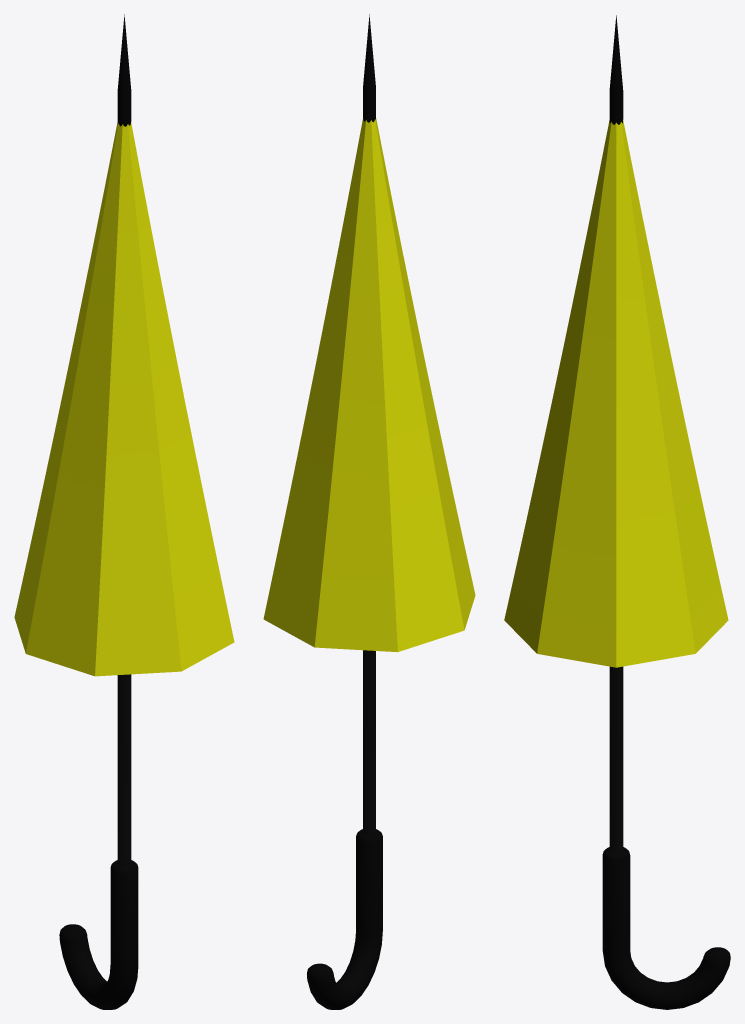
The model's file is parapluie fermé.fbx.
3 views of the same model, side by side, from view 1: azimuth 30°, elevation 25°; view 2: azimuth 150°, elevation 25°; view 3: azimuth 270°, elevation 25° (orthographic). The views are drawn at different scales.
Visible parts, largest first — view 1: Vert, Cylinder; view 2: Vert, Cylinder; view 3: Vert, Cylinder.
Boxes of the visible parts, <box> form: Vert: <box>14,122,234,676</box>; Cylinder: <box>59,14,138,1009</box>; Vert: <box>263,118,475,652</box>; Cylinder: <box>307,14,382,1009</box>; Vert: <box>504,120,728,667</box>; Cylinder: <box>602,15,730,1009</box>.
Size of the model in its own units: 112 by 546 by 113.
